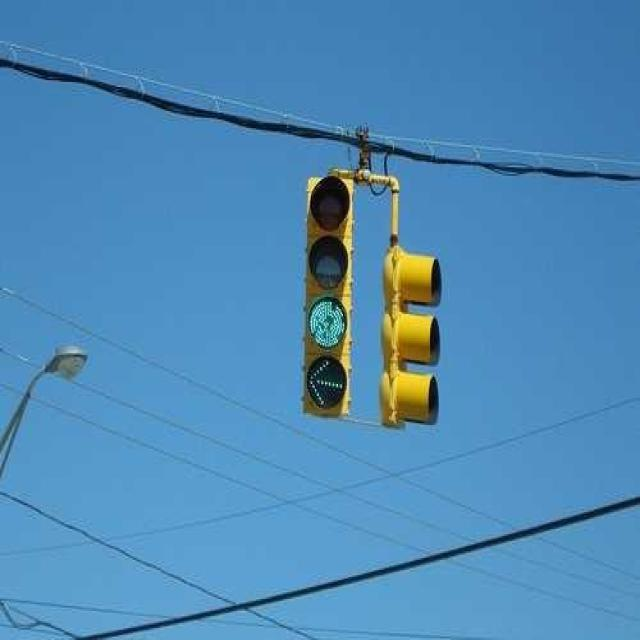Traffic Light -Green-: (294, 160, 358, 419)
